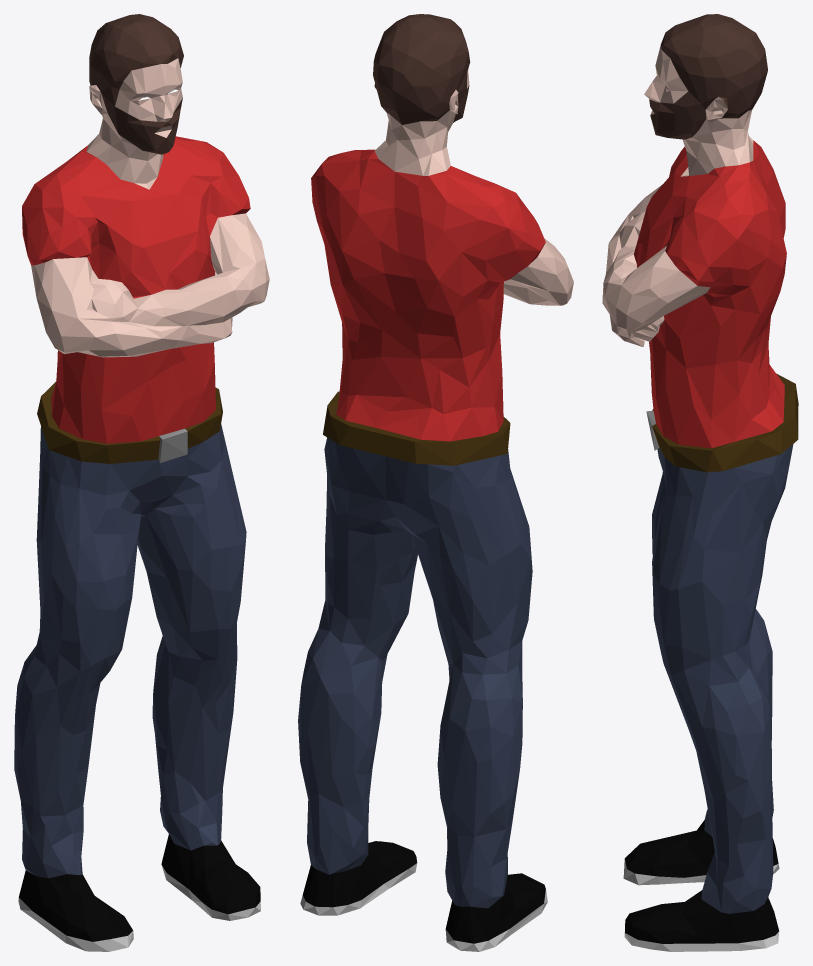
File: low_poly_person.glb
3 views of the same model, side by side, from view 1: azimuth 30°, elevation 25°; view 2: azimuth 150°, elevation 25°; view 3: azimuth 270°, elevation 25° (orthographic).
Visible parts, largest first — view 1: m_ca01.000; view 2: m_ca01.000; view 3: m_ca01.000.
Boxes of the visible parts, left/top/right/bottom form: m_ca01.000: left=14, top=14, right=269, bottom=951; m_ca01.000: left=298, top=14, right=573, bottom=951; m_ca01.000: left=602, top=14, right=798, bottom=951.
Bounding box in the file's own units: 49.33 × 186 × 37.29.
Materials: 1 (1 with a texture image).
